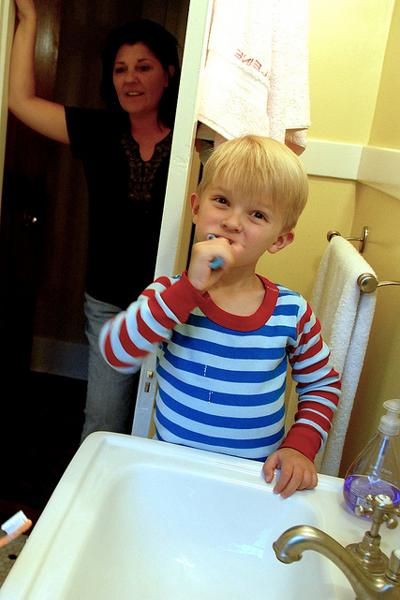person: (98, 135, 344, 503)
